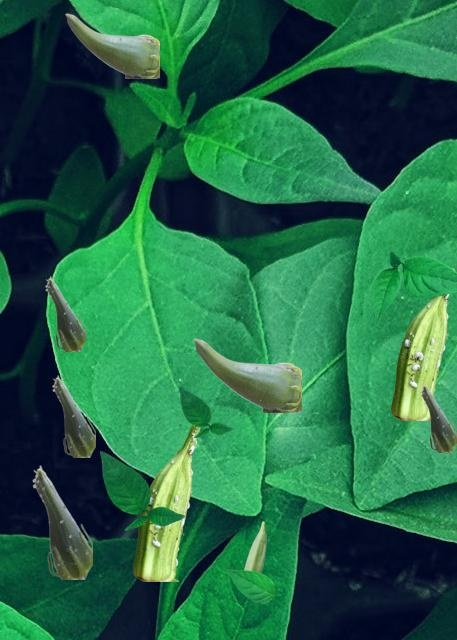okra: (133, 425, 199, 580), (391, 268, 454, 419), (193, 338, 300, 411), (32, 465, 91, 578), (65, 13, 158, 77), (52, 375, 94, 456), (45, 276, 84, 350), (420, 383, 455, 451), (244, 521, 265, 572)
